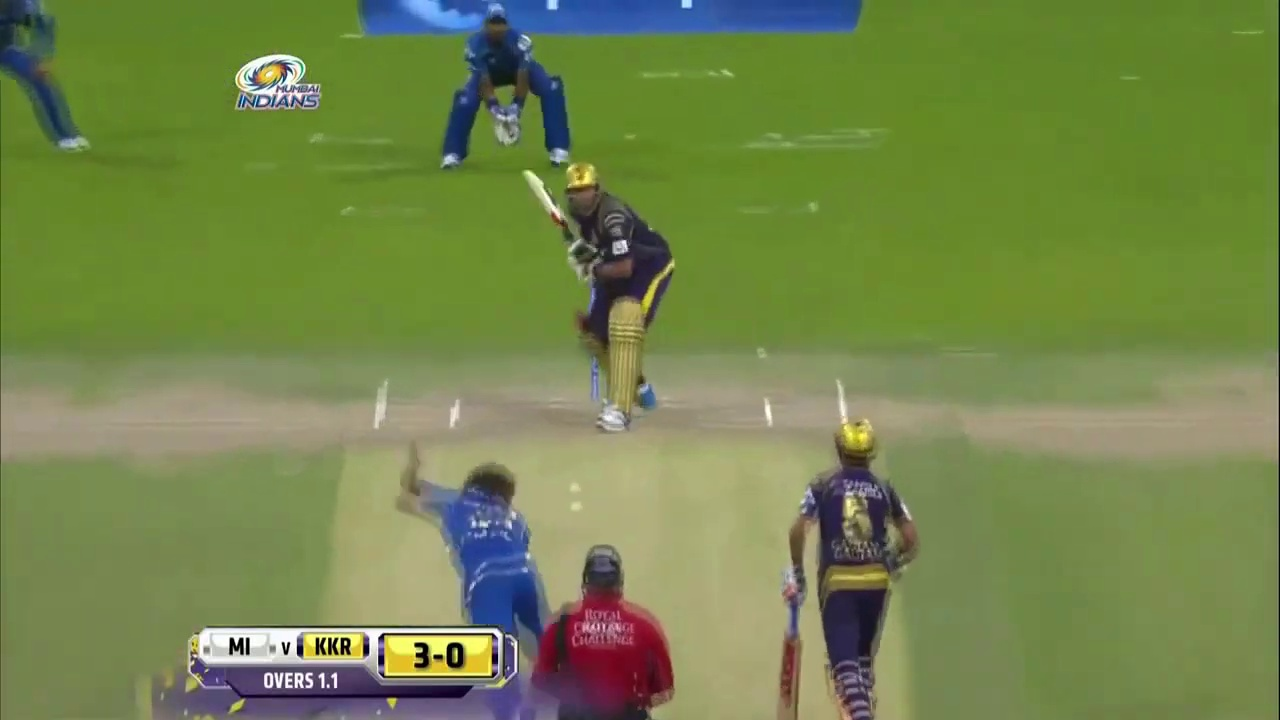bat: (518, 165, 561, 230)
batter: (568, 159, 676, 434)
